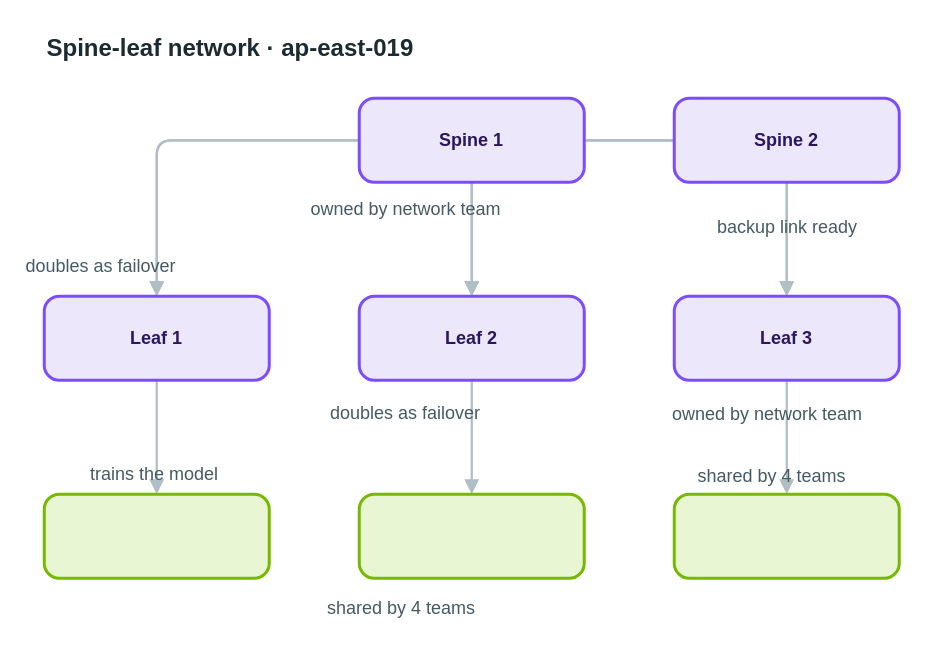
Image size: 939x645. Some labels were removed from this diagram. Here are the shapes that lost their labels. From the top down, the box of each, then its label:
(42, 492, 270, 579): GPU node 1
(357, 492, 585, 579): GPU node 2
(672, 492, 900, 579): GPU node 3
